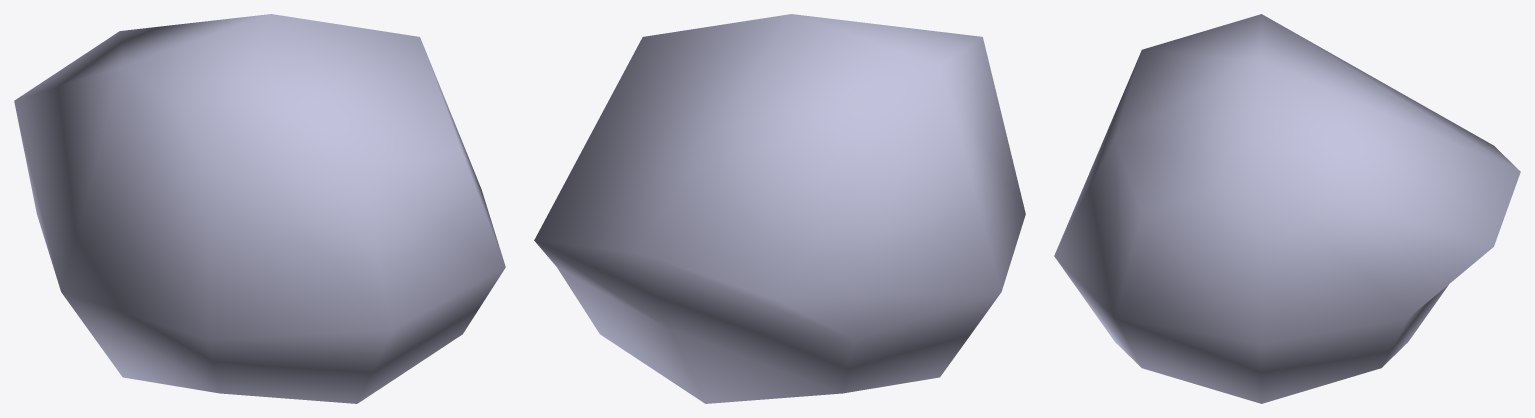
File: Rock_02.fbx
3 renders of one model, left to right at view 1: azimuth 30°, elevation 25°; view 2: azimuth 150°, elevation 25°; view 3: azimuth 270°, elevation 25°, orthographic. The views are drawn at different scales.
Visible parts, largest first — view 1: Cube; view 2: Cube; view 3: Cube.
Part boxes in pixels (bbox=[...]): Cube: bbox=[14, 14, 505, 403]; Cube: bbox=[534, 14, 1025, 403]; Cube: bbox=[1054, 14, 1520, 403].
Size of the model in its own units: 139 by 106 by 156.
